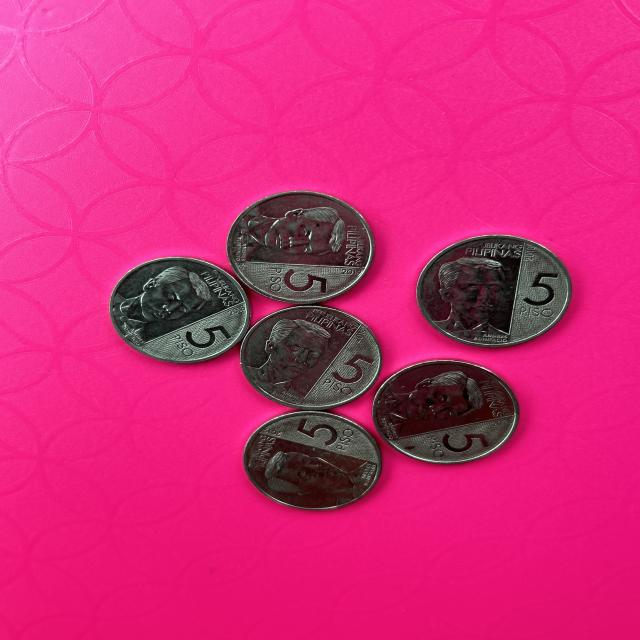5_New_Front: (288, 414, 360, 457), (259, 264, 339, 301), (516, 265, 562, 323), (324, 348, 379, 394), (168, 324, 236, 358), (428, 428, 489, 459)
